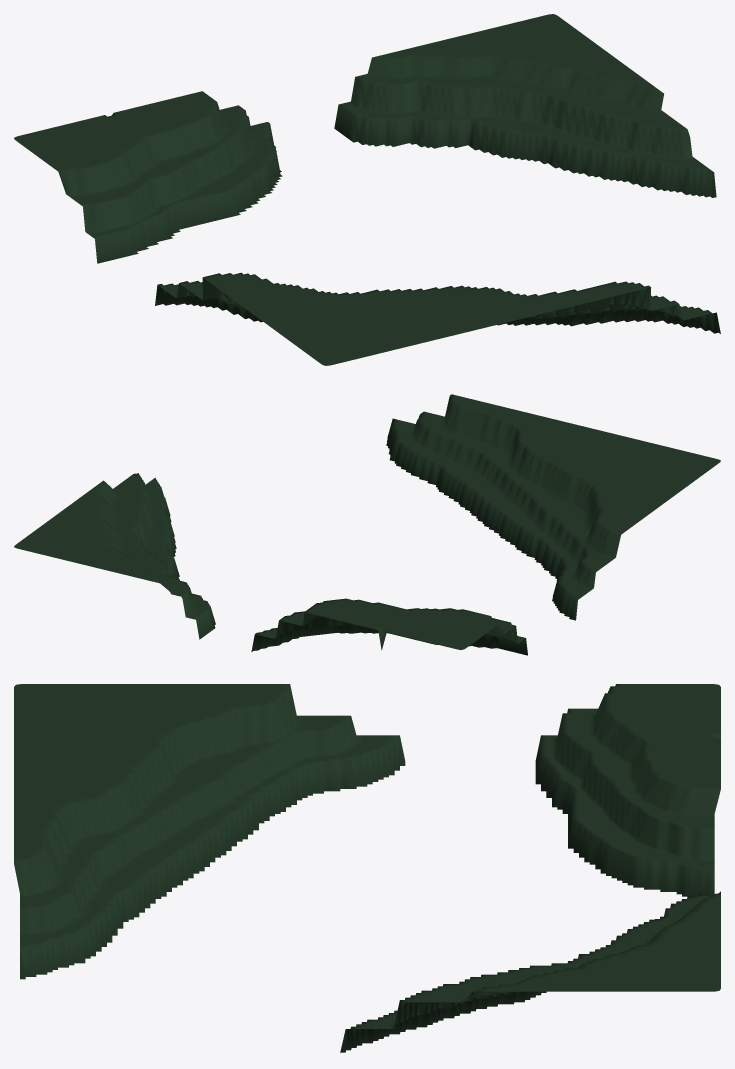
The model's file is Morro cenário.fbx.
3 views of the same model, one above another, from view 1: azimuth 30°, elevation 25°; view 2: azimuth 150°, elevation 25°; view 3: azimuth 270°, elevation 25° (orthographic). The views are drawn at different scales.
Parts seen in each view (by area): view 1: Plane; view 2: Plane; view 3: Plane.
Boxes of the visible parts, box(x1,y1,x2,y2) form: Plane: box(14, 14, 720, 365); Plane: box(14, 394, 720, 655); Plane: box(14, 684, 720, 1053).
Size of the model in its own units: 5899 by 695 by 5899.
